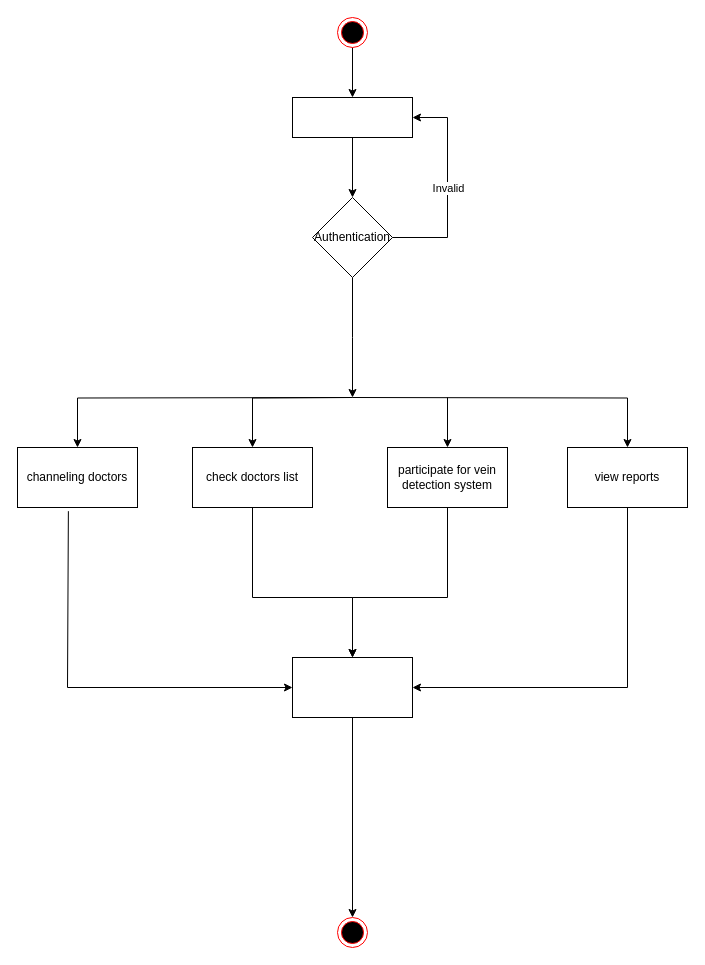
This 705x965 diagram has some shape labels left out. The box of each missing label's shape, as (x1, y1, x2, y2) in pixels:
log out: (292, 656, 412, 718)
patient login: (292, 96, 412, 138)
